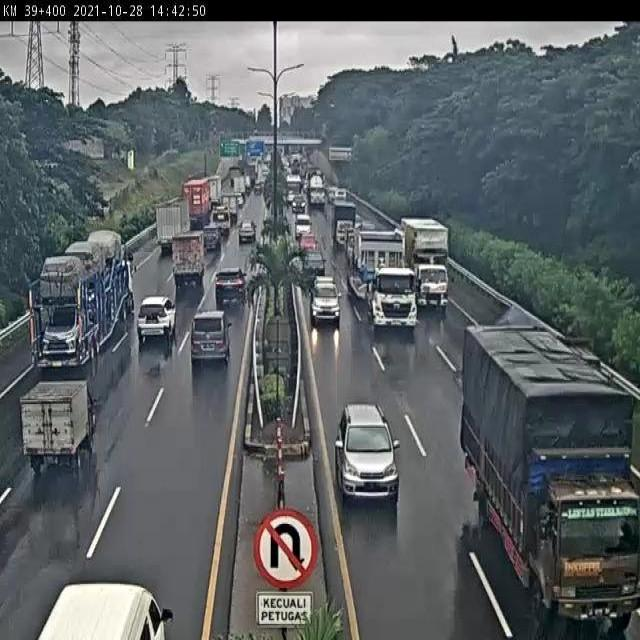big truck: (28, 227, 136, 365)
car: (335, 403, 400, 497), (137, 296, 177, 341), (192, 311, 228, 357), (310, 275, 342, 321), (214, 268, 246, 305), (304, 249, 326, 280), (199, 226, 220, 253), (238, 220, 257, 241)
small truck: (21, 383, 96, 469)
truck-l-: (460, 322, 640, 626), (400, 215, 450, 309)
truck-m-: (170, 230, 206, 290), (156, 195, 192, 252)
truck-xl-: (350, 223, 418, 328)
